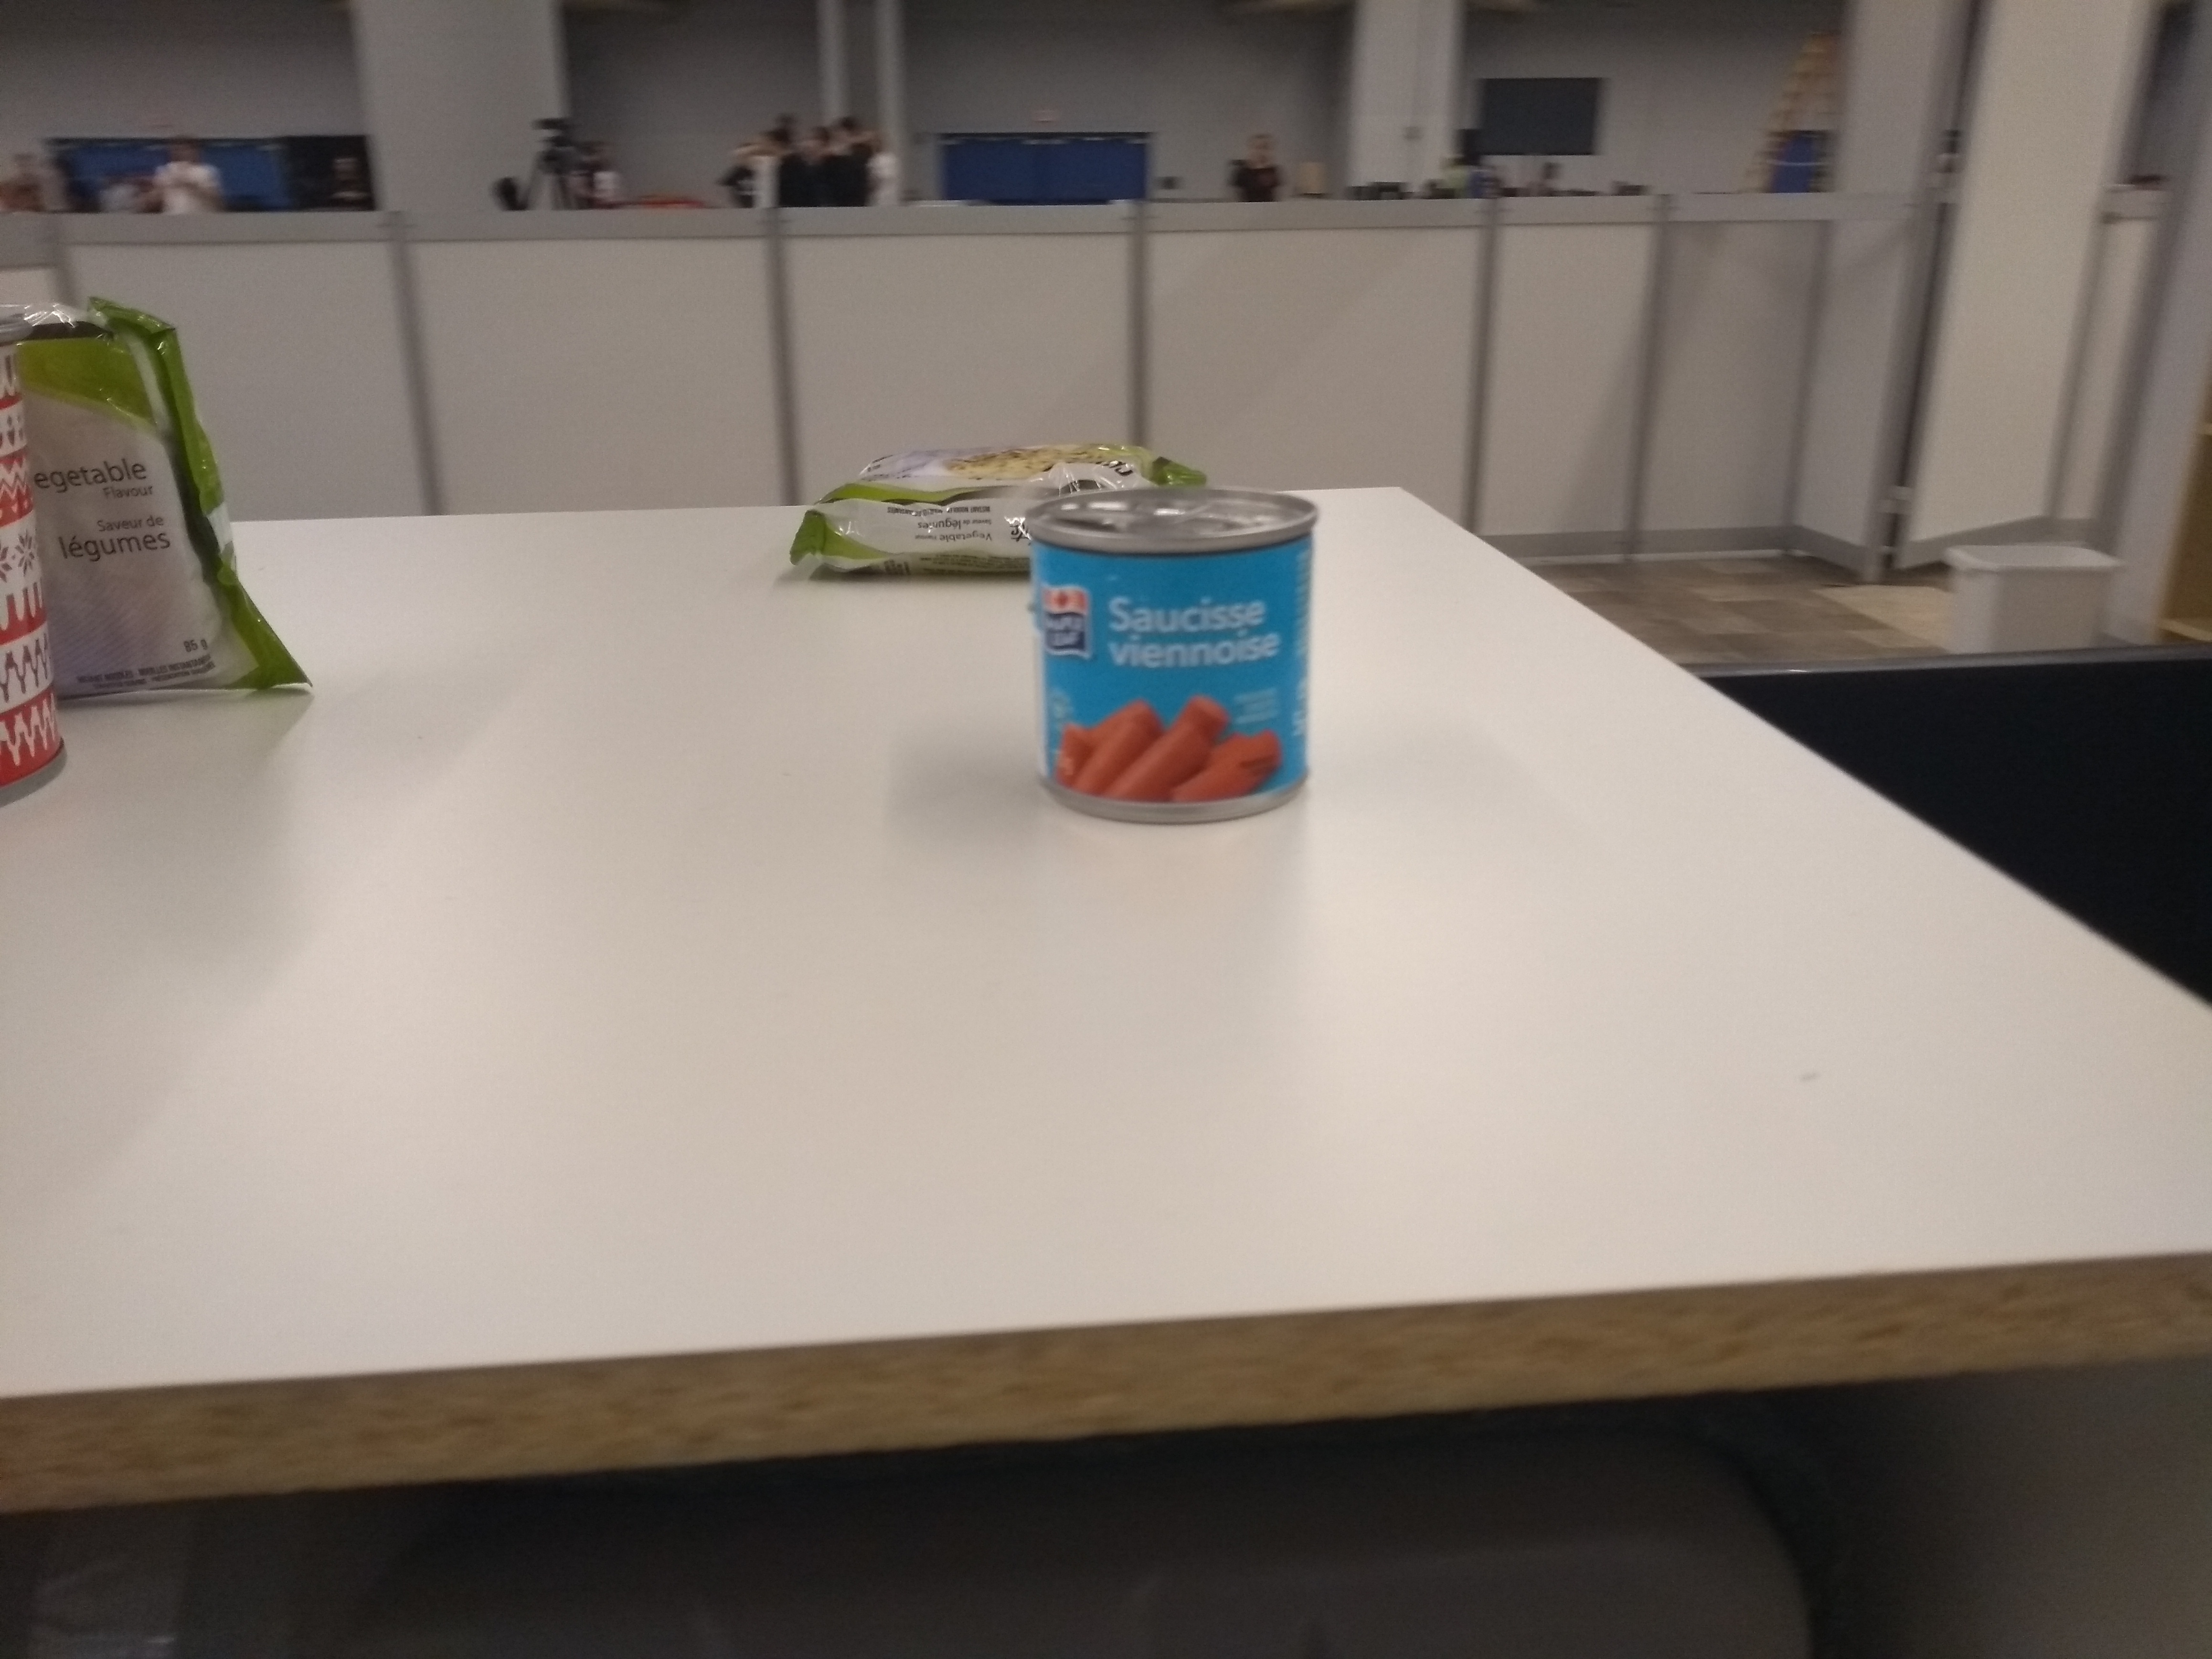sausages: (1019, 474, 1345, 842)
